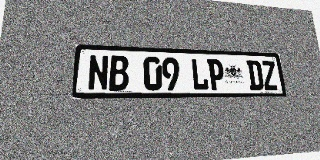0: (143, 57, 162, 91)
9: (162, 57, 180, 91)
B: (109, 55, 129, 91)
D: (246, 60, 264, 90)
L: (191, 58, 209, 90)
N: (87, 55, 109, 91)
P: (207, 59, 225, 90)
Z: (261, 61, 278, 90)
